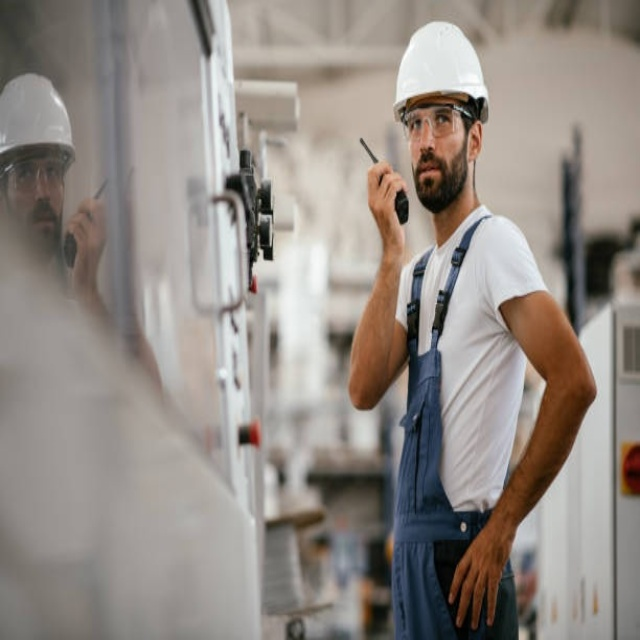Gafas: (402, 105, 474, 144), (4, 159, 67, 194)
Sin_guantes: (445, 518, 512, 631), (363, 152, 413, 264), (67, 195, 109, 305)
Sin_mascara: (31, 214, 58, 229), (418, 164, 439, 176)
